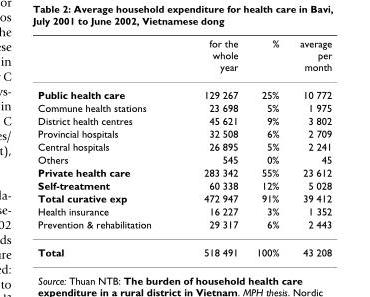table: (37, 37, 331, 257)
table column: (37, 37, 176, 257), (176, 37, 246, 257), (288, 37, 331, 257), (246, 37, 288, 257)
table column header: (37, 37, 331, 80)
table row: (37, 37, 331, 80), (37, 80, 331, 101), (37, 217, 331, 237), (37, 237, 331, 257), (37, 113, 331, 126), (37, 126, 331, 139), (37, 139, 331, 152), (37, 152, 331, 165), (37, 165, 331, 178), (37, 178, 331, 191), (37, 191, 331, 204), (37, 204, 331, 217), (37, 101, 331, 113)
